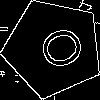O: (28, 23, 88, 77)
